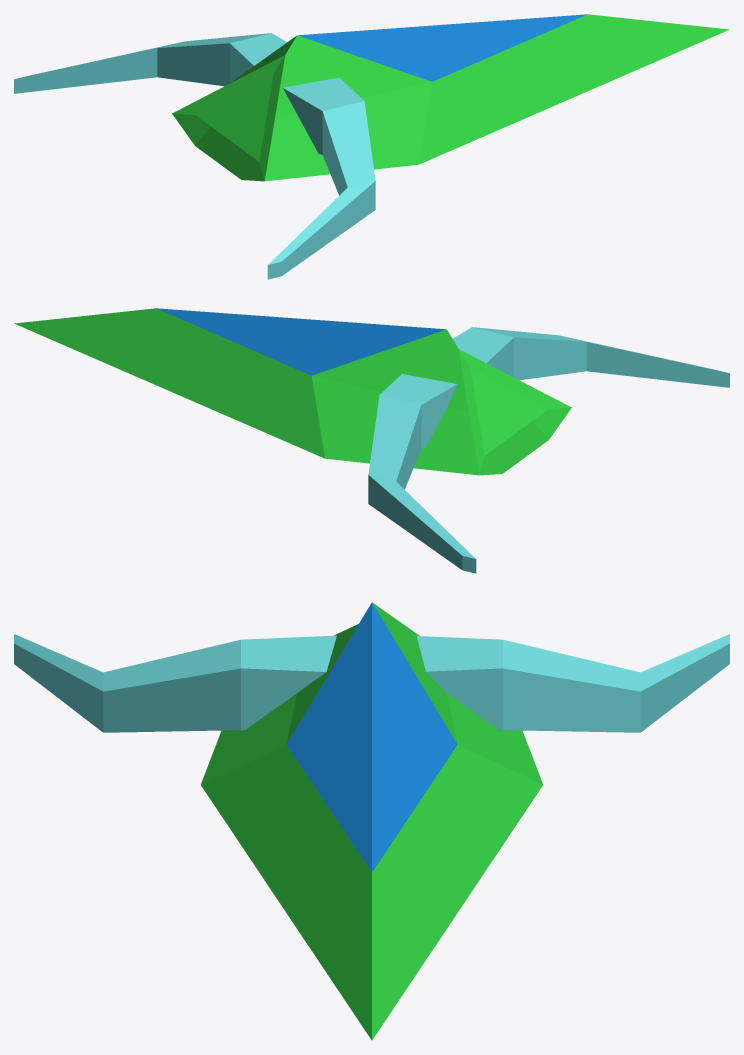
File: SpaceShip2.fbx
The picture shows the model from 3 angles, top to bottom: view 1: azimuth 30°, elevation 25°; view 2: azimuth 150°, elevation 25°; view 3: azimuth 270°, elevation 25°; orthographic projection. The views are drawn at different scales.
Visible parts, largest first — view 1: Cube; view 2: Cube; view 3: Cube.
Boxes of the visible parts, x1,y1,x2,y2 form: Cube: (14,14,729,279); Cube: (14,308,729,573); Cube: (14,602,729,1040).
Size of the model in its own units: 792 by 148 by 591.
